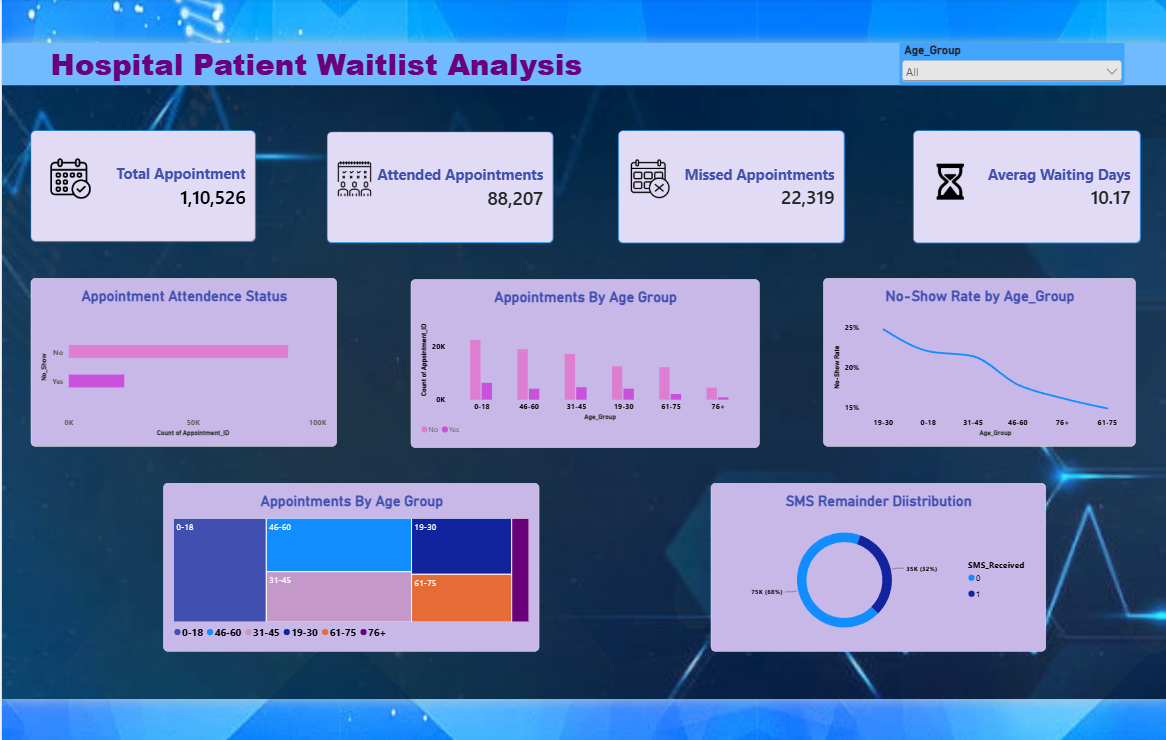

Layout of this report page (visuals, bound fields, positions):
{"tool":"powerbi","page":{"name":"Page 1","canvas":[1920,1080],"ordinal":0},"visuals":[{"type":"cardVisual","title":"Total Appointments","fields":{"Data":["CountNonNull(Hospital Appointments.Appointment_ID)"]},"box":[47.3,144.1,370.5,183.2],"z":0},{"type":"image","box":[78.2,170.8,70,105],"z":1000},{"type":"textbox","box":[0,0,1920.4,70],"z":2000},{"type":"cardVisual","fields":{"Data":["CountNonNull(Hospital Appointments.Appointment_ID)"]},"box":[535.2,146.1,372.6,183.2],"z":3000},{"type":"cardVisual","fields":{"Data":["CountNonNull(Hospital Appointments.Appointment_ID)"]},"box":[1014.8,144.1,372.6,185.2],"z":4000},{"type":"cardVisual","fields":{"Data":["Avg(Hospital Appointments.Waitig_Days)"]},"box":[1500.5,144.1,374.6,185.2],"z":5000},{"type":"image","box":[1035.3,181.1,63.8,84.4],"z":6000},{"type":"image","box":[551.6,181.1,57.6,84.4],"z":7000},{"type":"image","box":[1531.4,181.1,59.7,94.7],"z":8000},{"type":"clusteredBarChart","title":"Appointment Attendence Status","fields":{"Category":["Hospital Appointments.No_Show"],"Y":["CountNonNull(Hospital Appointments.Appointment_ID)"]},"box":[47.3,387,504.3,277.9],"z":9000},{"type":"clusteredColumnChart","title":"Appointments By Age Group","fields":{"Category":["Hospital Appointments.Age_Group"],"Series":["Hospital Appointments.No_Show"],"Y":["CountNonNull(Hospital Appointments.Appointment_ID)"]},"box":[673.1,389,574.3,277.9],"z":10000},{"type":"lineChart","fields":{"Category":["Hospital Appointments.Age_Group"],"Y":["Hospital Appointments.No-Show Rate"]},"box":[1352.3,387,514.6,277.9],"z":11000},{"type":"donutChart","title":"SMS Remainder Diistribution","fields":{"Category":["Hospital Appointments.SMS_Received"],"Y":["CountNonNull(Hospital Appointments.Appointment_ID)"]},"box":[1167.1,724.5,551.6,277.9],"z":12000},{"type":"treemap","title":"Appointments By Age Group","fields":{"Group":["Hospital Appointments.Age_Group"],"Values":["CountNonNull(Hospital Appointments.Appointment_ID)"]},"box":[265.5,724.5,619.6,277.9],"z":13000},{"type":"slicer","fields":{"Values":["Hospital Appointments.Age_Group"]},"box":[1477.9,0,370.5,70],"z":14000}]}

Visuals, with their boxes in screenshot pixels (x1, y1, x2, y2):
"Total Appointments" cardVisual: 34,129,256,239
image: 53,145,95,208
textbox: 6,43,1156,84
cardVisual - CountNonNull(Hospital Appointments.Appointment_ID): 327,130,550,240
cardVisual - CountNonNull(Hospital Appointments.Appointment_ID): 614,129,837,240
cardVisual - Avg(Hospital Appointments.Waitig_Days): 905,129,1129,240
image: 626,151,664,202
image: 336,151,371,202
image: 923,151,959,208
"Appointment Attendence Status" clusteredBarChart: 34,274,336,441
"Appointments By Age Group" clusteredColumnChart: 409,275,753,442
lineChart - Hospital Appointments.Age_Group x Hospital Appointments.No-Show Rate: 816,274,1124,441
"SMS Remainder Diistribution" donutChart: 705,476,1035,643
"Appointments By Age Group" treemap: 165,476,536,643
slicer - Hospital Appointments.Age_Group: 891,43,1113,84
